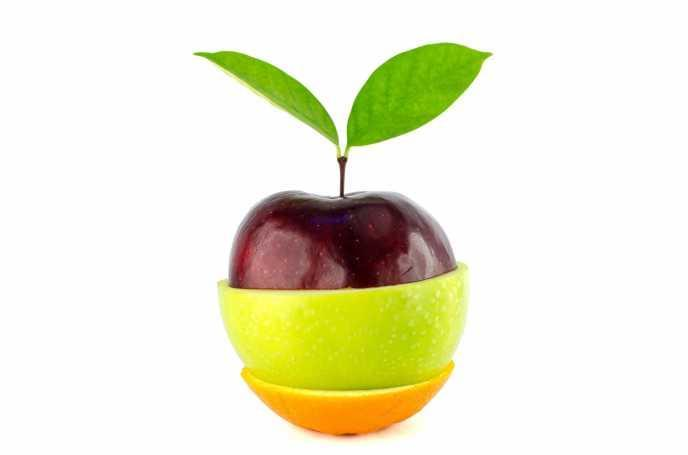apple: (214, 187, 468, 430)
